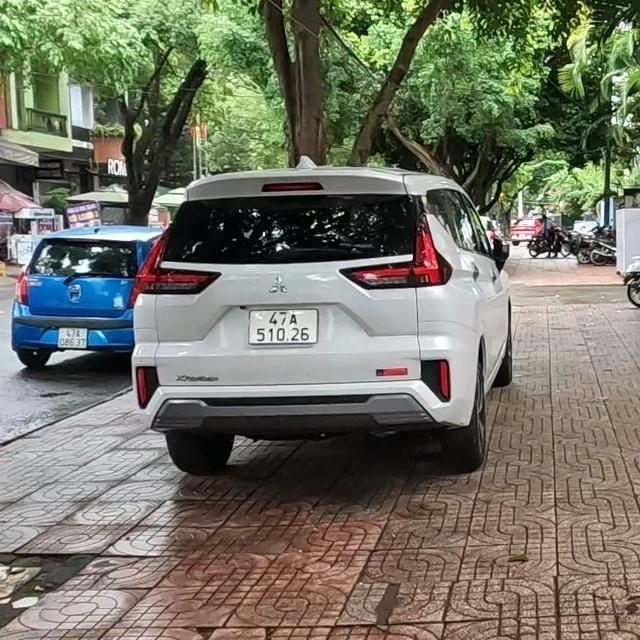car: (129, 164, 523, 489), (14, 218, 150, 372)
plate: (243, 301, 324, 351), (49, 318, 94, 355)
